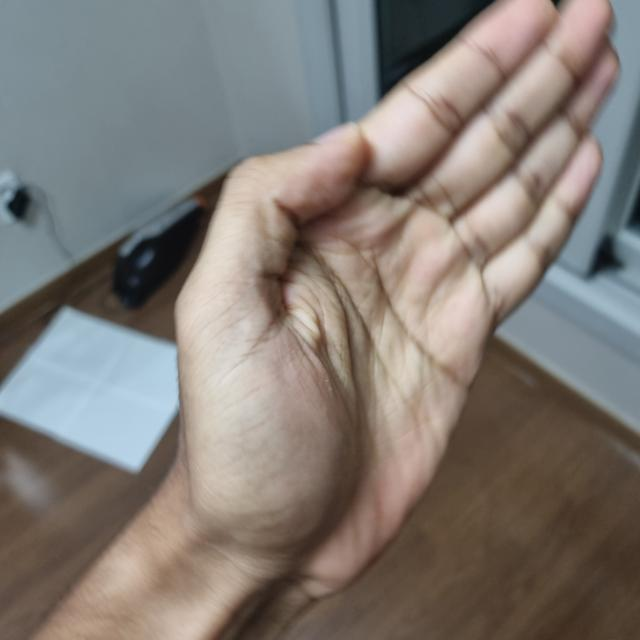Paper: (175, 1, 616, 581)
